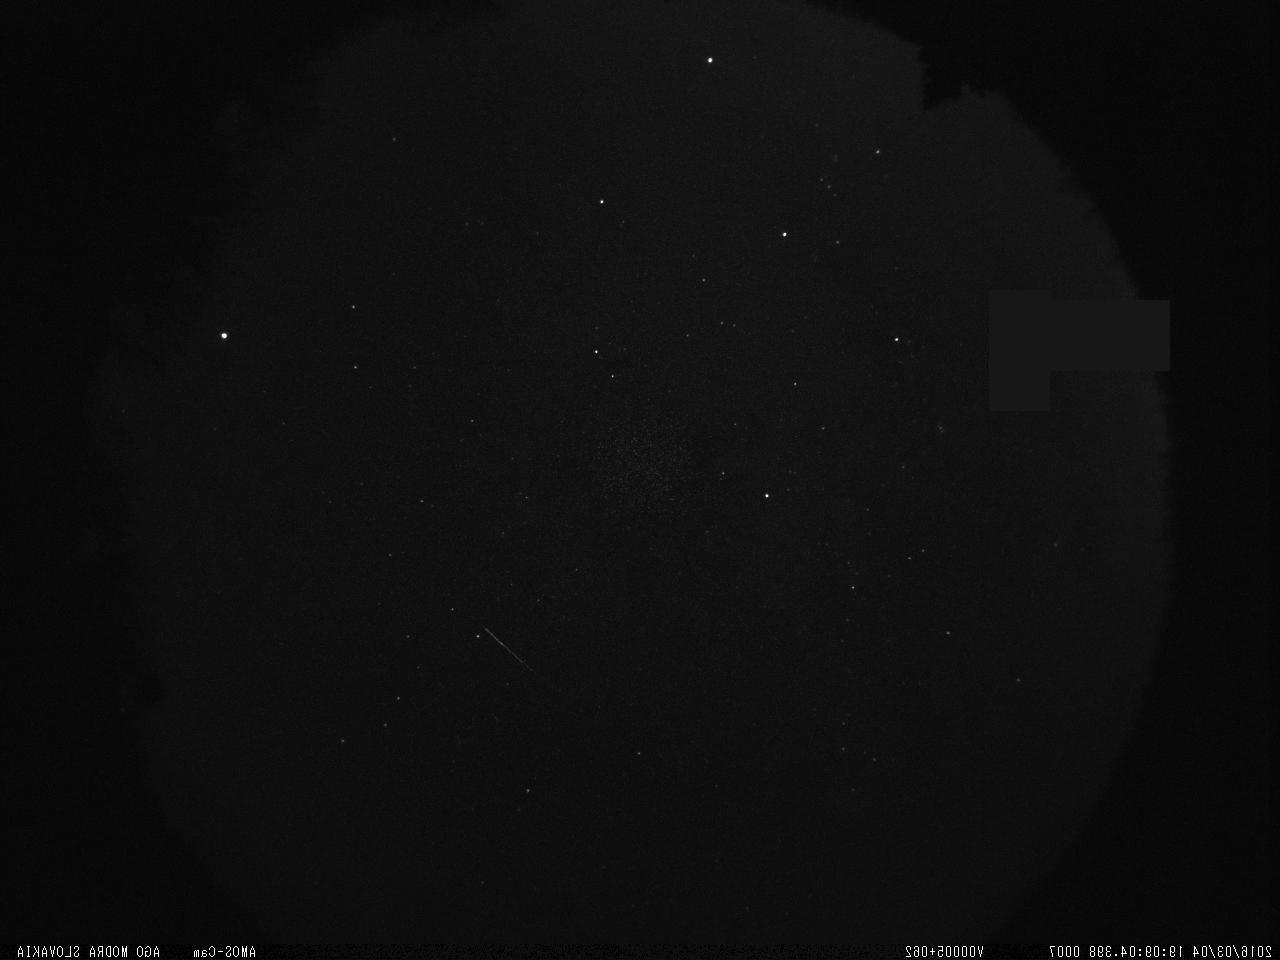meteor: (476, 614, 540, 676)
